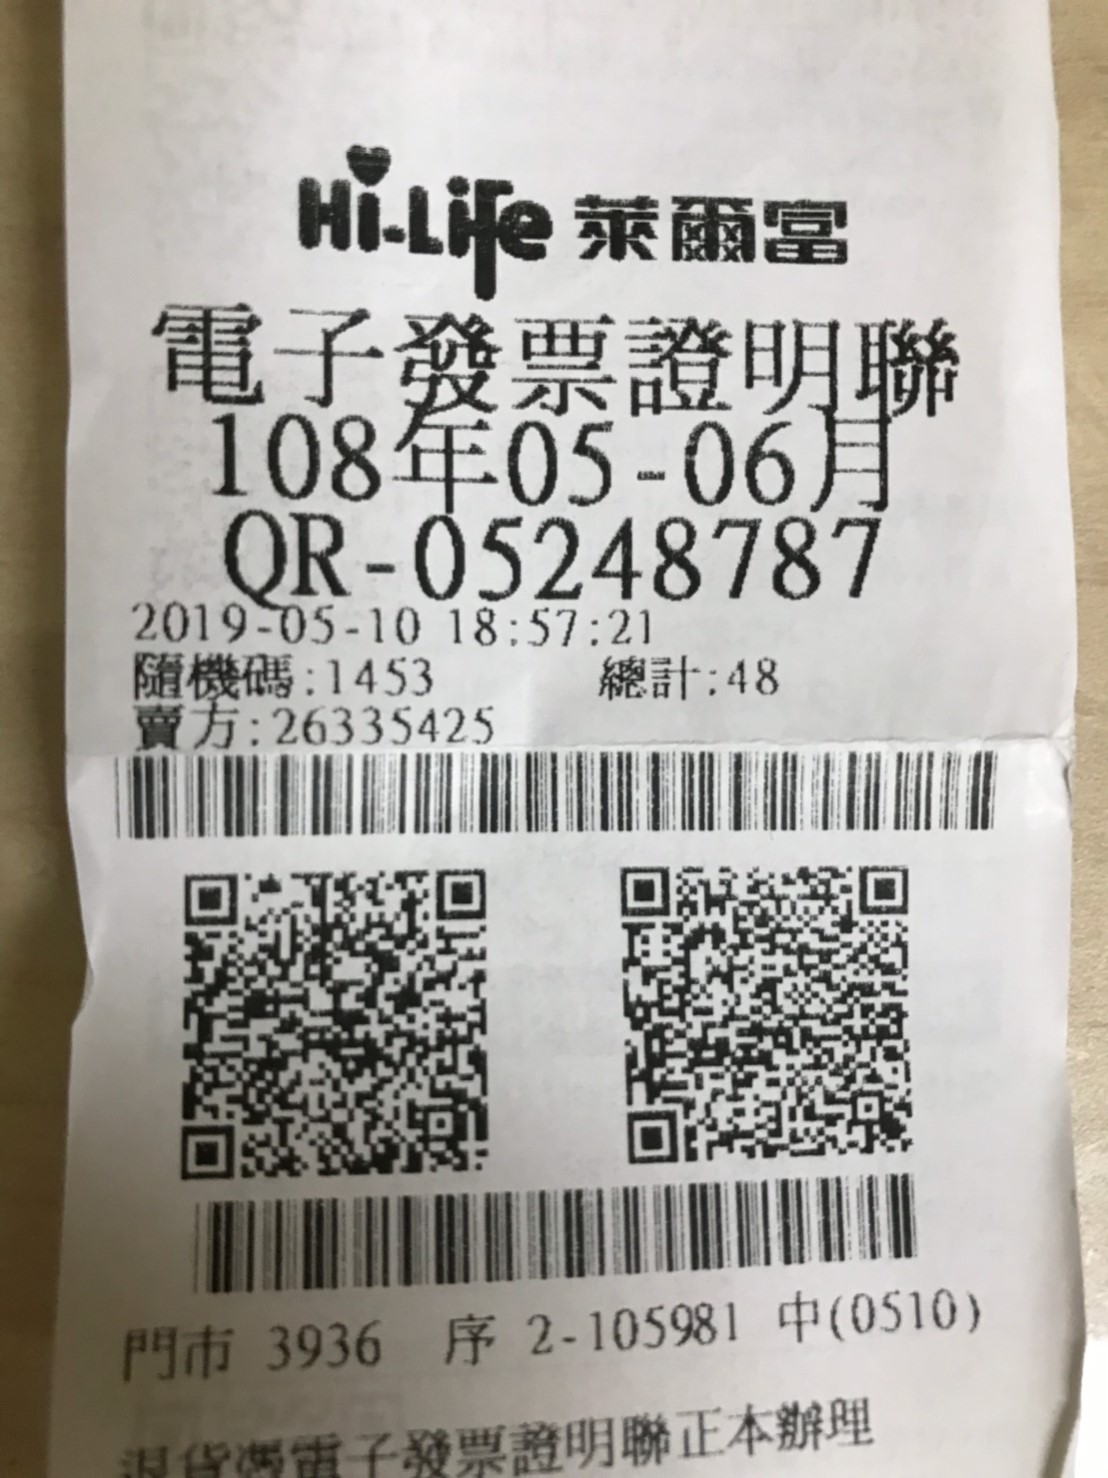Date_New: (207, 411, 893, 509)
Number_New: (411, 509, 887, 602)
